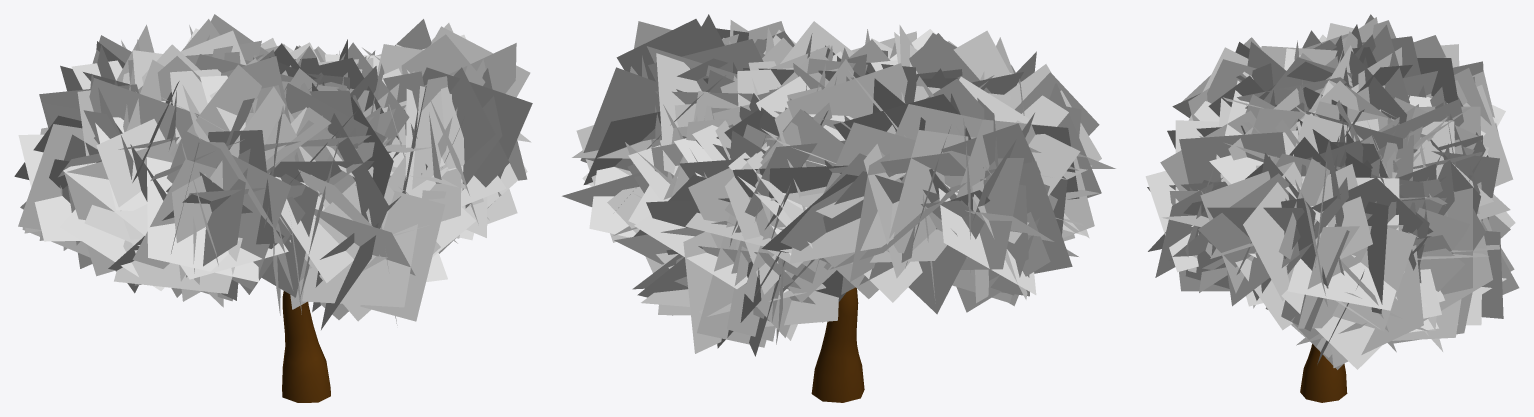
Rendered from Tree.fbx.
The picture shows the model from 3 angles, left to right: view 1: azimuth 30°, elevation 25°; view 2: azimuth 150°, elevation 25°; view 3: azimuth 270°, elevation 25°; orthographic projection. The views are drawn at different scales.
Parts seen in each view (by area): view 1: Cube.001; view 2: Cube.001; view 3: Cube.001.
Part boxes in pixels (x1,y1,x2,y2): Cube.001: (14, 14, 532, 402); Cube.001: (562, 14, 1115, 402); Cube.001: (1145, 14, 1519, 402).
Bounding box in the file's own units: 13.03 × 9.23 × 9.87.
